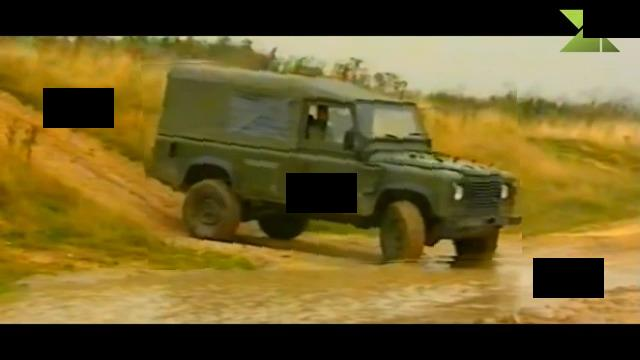MIL_HMMWV: (143, 56, 521, 268)
